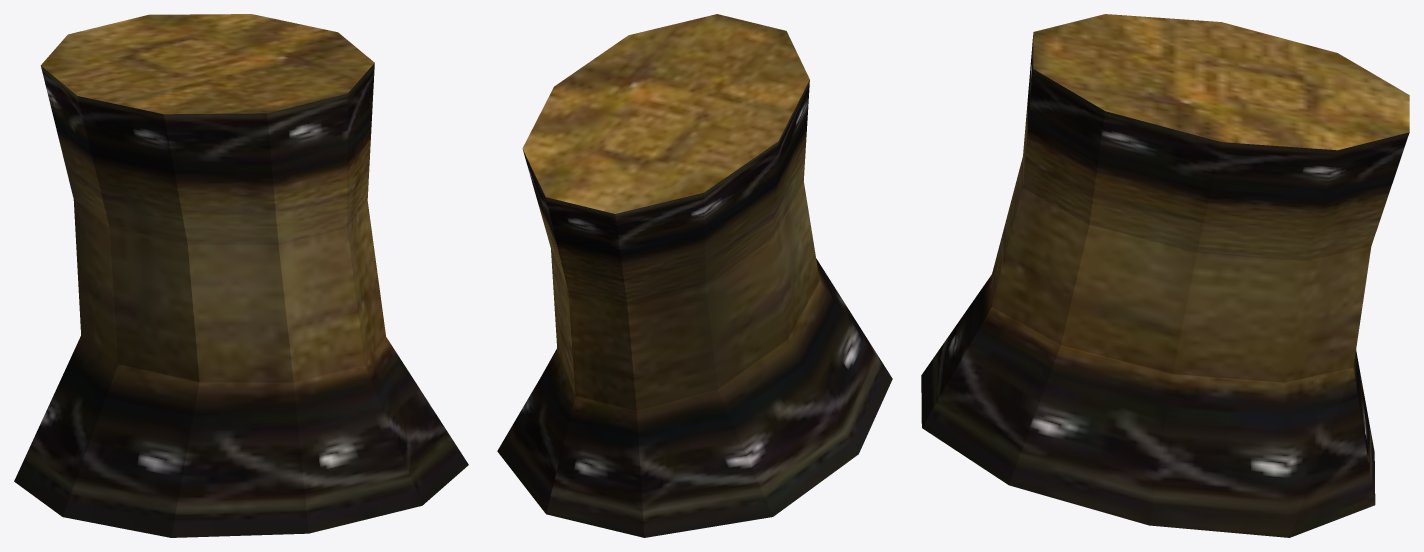
Rendered from GS_JUDGE_HAT.glb.
3 renders of one model, left to right at view 1: azimuth 30°, elevation 25°; view 2: azimuth 150°, elevation 25°; view 3: azimuth 270°, elevation 25°, orthographic. The views are drawn at different scales.
Visible parts, largest first — view 1: GS_JUDGE_HAT; view 2: GS_JUDGE_HAT; view 3: GS_JUDGE_HAT.
Part boxes in pixels (x1,y1,x2,y2): GS_JUDGE_HAT: [14, 14, 468, 537]; GS_JUDGE_HAT: [497, 14, 892, 537]; GS_JUDGE_HAT: [921, 14, 1409, 537].
Bounding box in the file's own units: 0.2325 × 0.2729 × 0.2823.
Materials: 1 (1 with a texture image).
